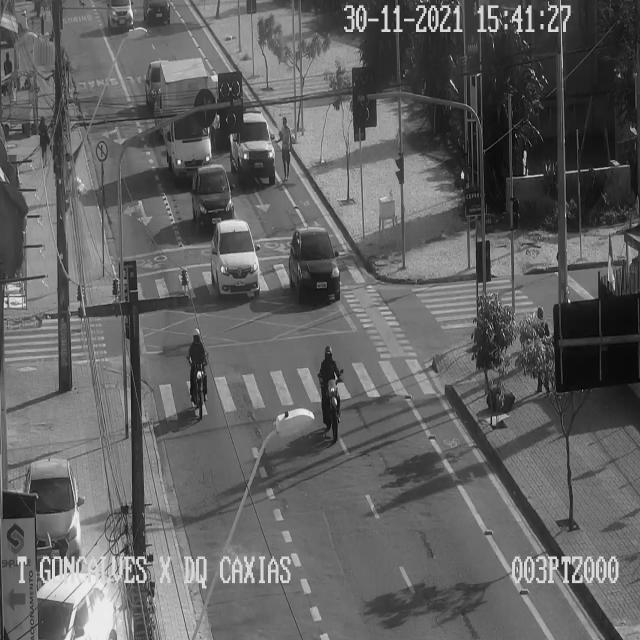Car: (24, 460, 84, 562), (38, 572, 118, 639), (210, 220, 262, 298), (228, 110, 274, 193), (290, 226, 342, 298), (190, 163, 236, 223), (144, 46, 168, 110), (107, 1, 135, 33), (144, 0, 174, 29)
Motorcycle: (318, 344, 344, 444), (187, 329, 207, 419)
Truck: (159, 58, 211, 183)
